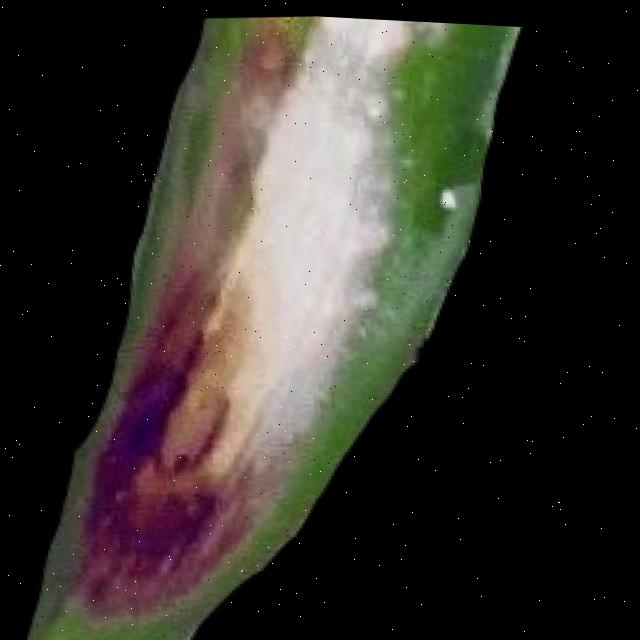mite: (382, 16, 504, 237), (402, 156, 484, 246), (431, 174, 473, 218), (434, 181, 463, 212)
